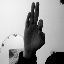f: (23, 2, 46, 49)
